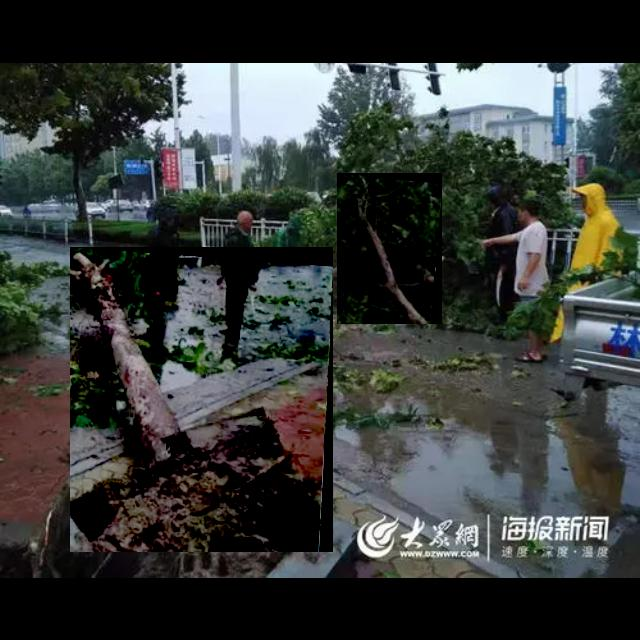Fallen Tree: (70, 247, 334, 553), (337, 173, 443, 325)
